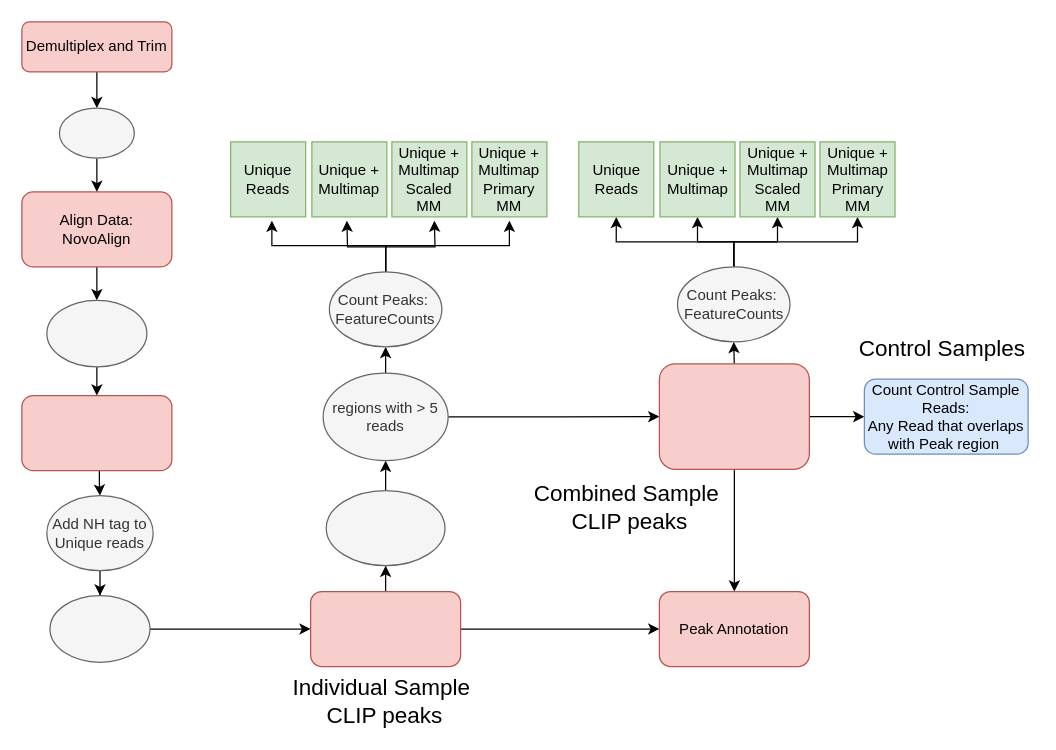
Image size: 1056x750. Some labels were removed from this diagram. Each missing label, with the box of its shape:
bamtools merge: Unique reads: (325, 489, 445, 566)
Deduplicate Reads:: (21, 394, 172, 471)
iCount Tools: (58, 107, 134, 158)
Identify CLIP peaks: CLIP samples only: (309, 590, 461, 666)
Identify shared CLIP peaks CLIP peaks have > 90 % overlap between samples: (658, 362, 809, 469)
NovoAlign: (46, 299, 147, 367)
UMItools Deduplicate: (49, 594, 150, 662)
